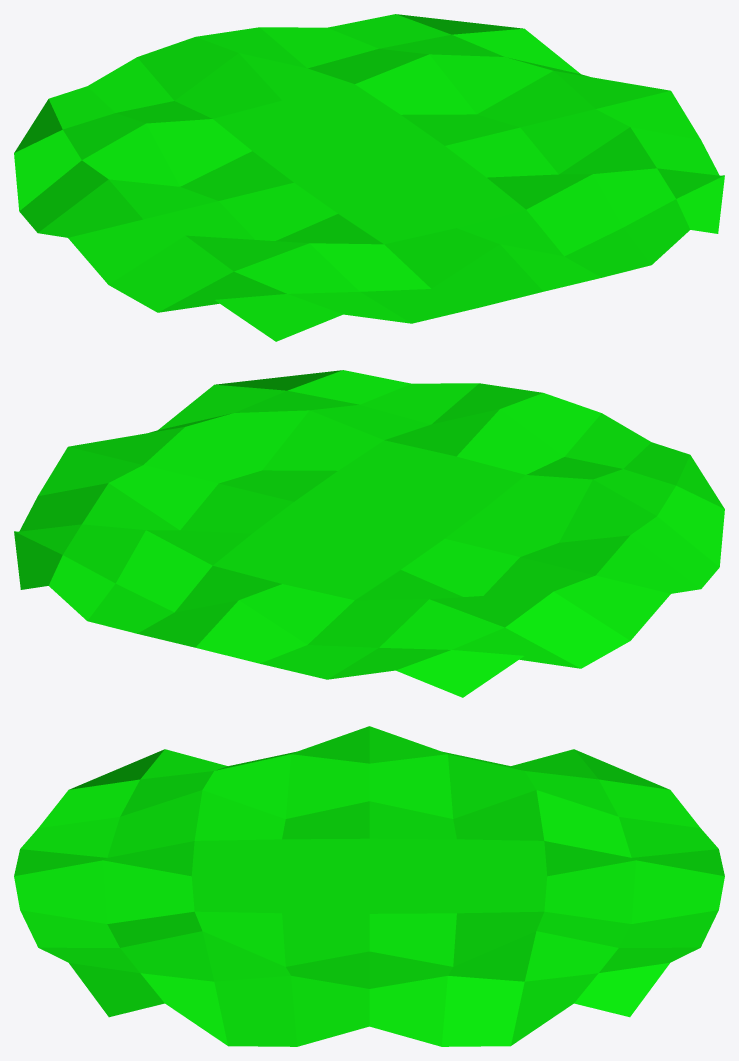
The model's file is lechuga.glb.
3 views of the same model, one above another, from view 1: azimuth 30°, elevation 25°; view 2: azimuth 150°, elevation 25°; view 3: azimuth 270°, elevation 25° (orthographic). The views are drawn at different scales.
Visible parts, largest first — view 1: Plane.002; view 2: Plane.002; view 3: Plane.002.
Boxes of the visible parts, x1,y1,x2,y2 form: Plane.002: (14,14,724,341); Plane.002: (14,370,724,697); Plane.002: (14,726,724,1046).
Size of the model in its own units: 2.51 by 0.1826 by 2.51.
